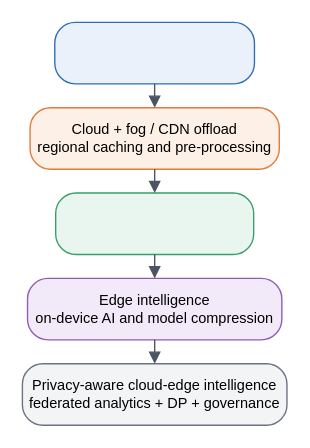
Image size: 310x448. Some labels were removed from this diagram. The centre of each missing label's shape, as x and y in pixels:
"Centralised cloud analytics raw data sent to data centres" goes at (x=154, y=52).
"Edge computing local inference near the data" goes at (x=154, y=223).
